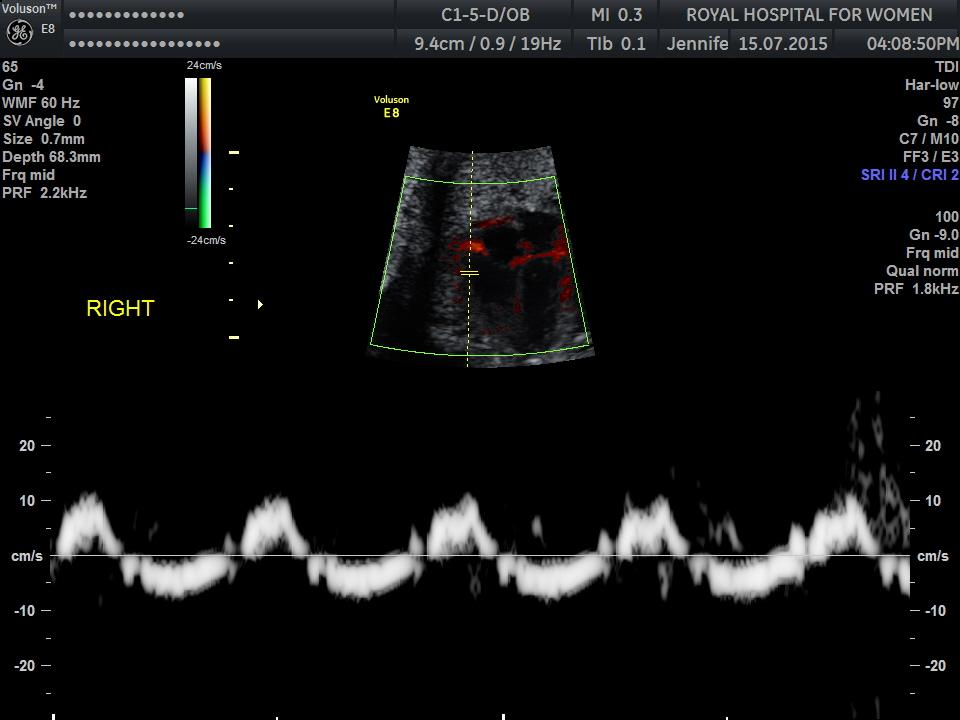Ultrasound-Waves: (55, 397, 908, 717)
